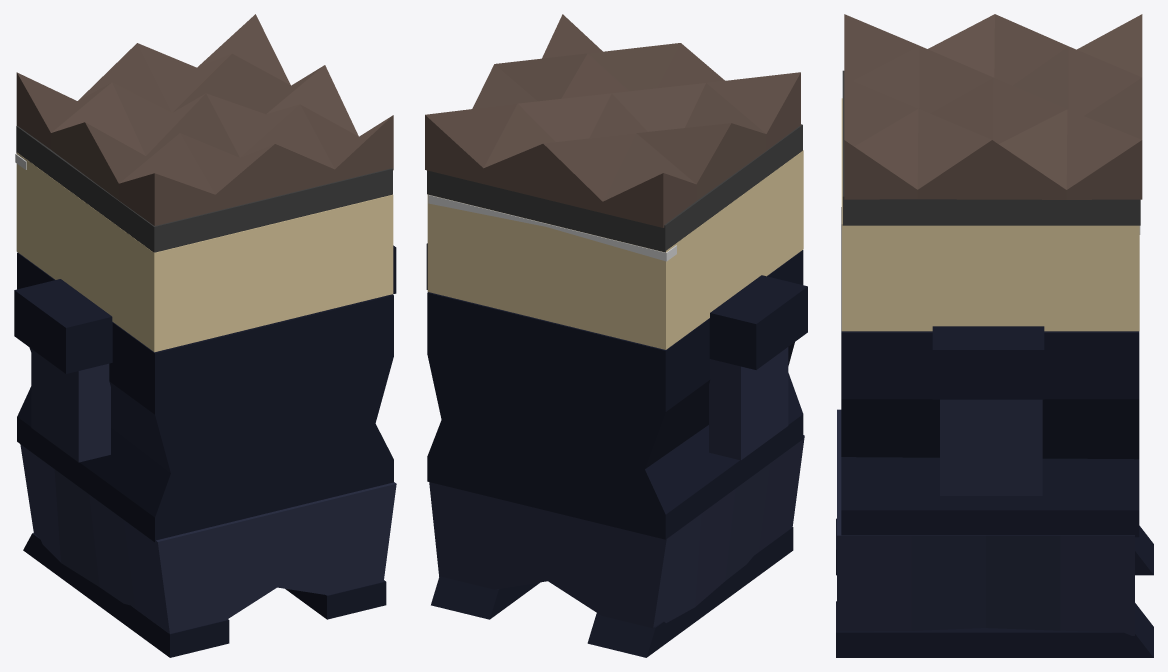
The model's file is MGS_SNAKE.fbx.
The picture shows the model from 3 angles, left to right: view 1: azimuth 30°, elevation 25°; view 2: azimuth 150°, elevation 25°; view 3: azimuth 270°, elevation 25°; orthographic projection. The views are drawn at different scales.
Visible parts, largest first — view 1: Cube.003; view 2: Cube.003, Cube; view 3: Cube.003.
Part boxes in pixels (x1,y1,x2,y2): Cube.003: (14, 14, 396, 657); Cube.003: (425, 14, 807, 657); Cube: (428, 195, 676, 261); Cube.003: (836, 14, 1153, 657).
Bounding box in the file's own units: 276 × 388 × 213.
